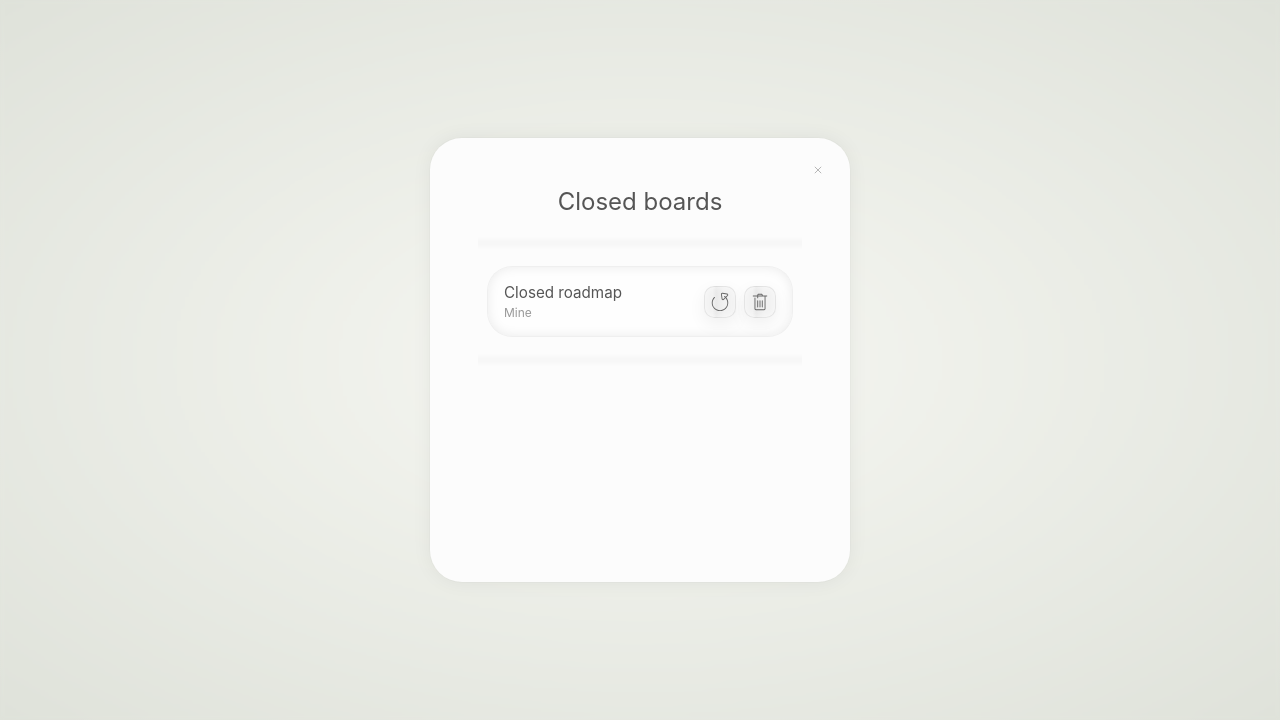
Scenario: ClosedBoardsModal › shows an inline error when restore fails
Click the button named "Restore board": point(720, 302) x1=704 y1=286 x2=736 y2=318
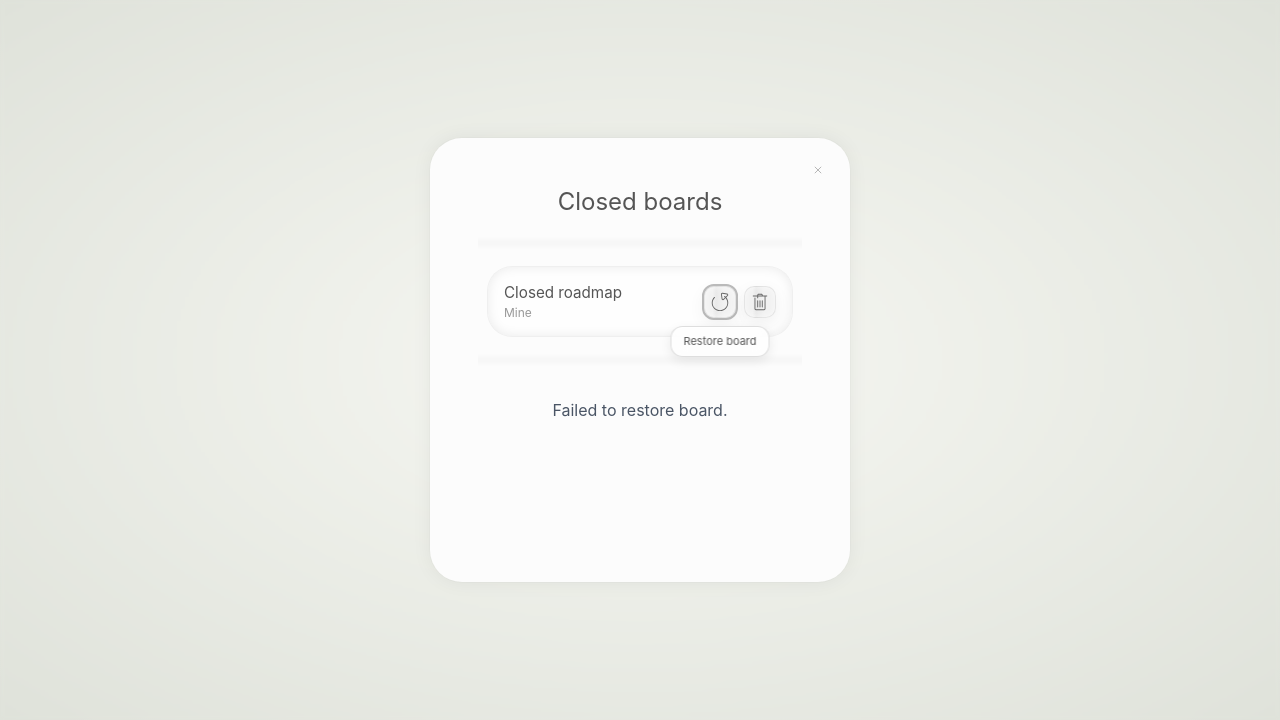
Expected: the message reads "Failed to restore board.", x1=552 y1=400 x2=728 y2=420
